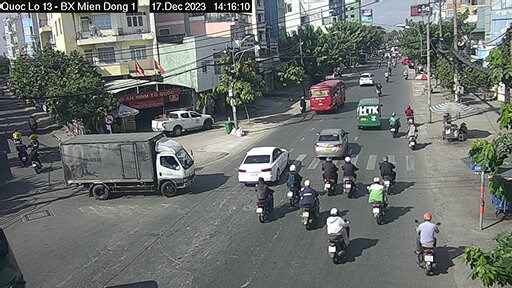car: (236, 142, 285, 185), (151, 111, 216, 135), (314, 124, 349, 159), (312, 79, 345, 111), (357, 96, 381, 131), (358, 71, 374, 86)
motorbike: (406, 219, 443, 271), (254, 179, 278, 227), (329, 215, 351, 265), (300, 181, 318, 232), (370, 189, 392, 228), (285, 168, 305, 208), (323, 160, 340, 195), (341, 163, 356, 193)
truck: (65, 133, 194, 197)
